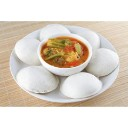idly: (15, 67, 59, 92), (61, 72, 103, 97), (85, 49, 119, 75), (15, 39, 42, 63), (39, 23, 72, 39), (75, 29, 100, 49)
